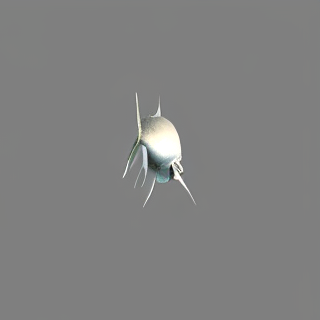Pecific herring: (120, 89, 198, 210)
